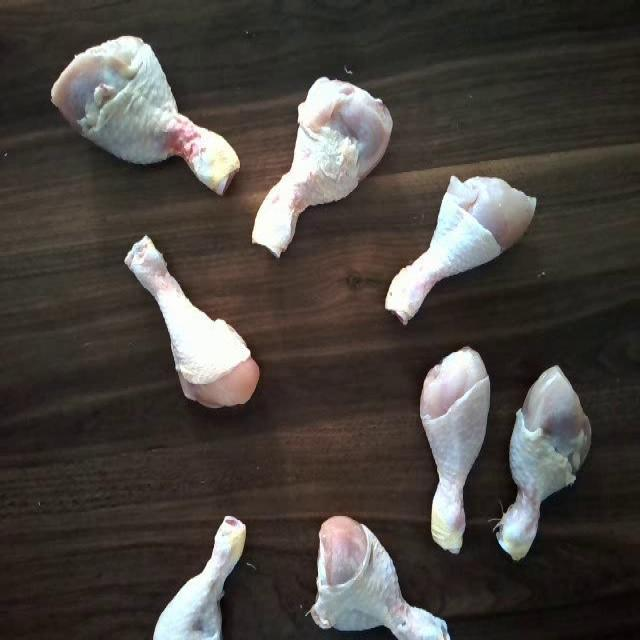leg: (48, 28, 245, 190), (260, 57, 390, 264), (382, 163, 534, 324), (123, 236, 264, 409), (504, 358, 600, 574), (306, 513, 454, 640), (418, 350, 487, 568), (146, 513, 254, 640)
